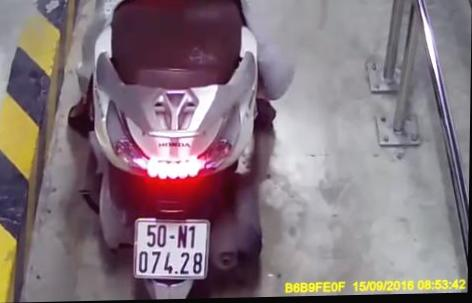License_Plate: (123, 208, 213, 287)
